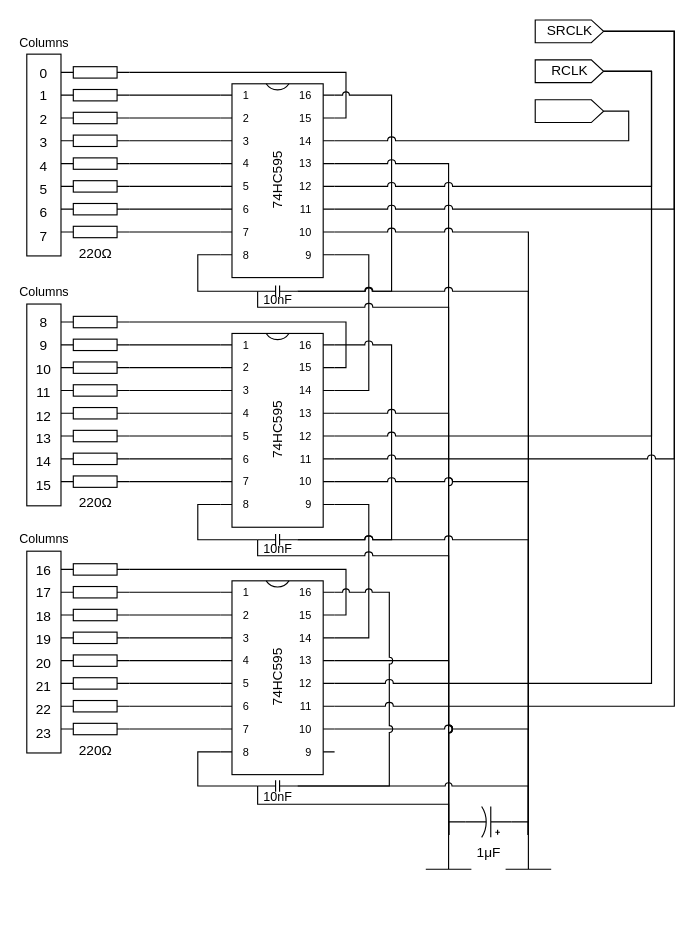
Image size: 695x935. Some labels were removed from this diagram. The shapes that lost their labels are listed below. From the top down, each one's centre as x and y in pixels, then its label:
At (569,111): "SER".
At (448,851): "V ss".
At (527,851): "V dd".
